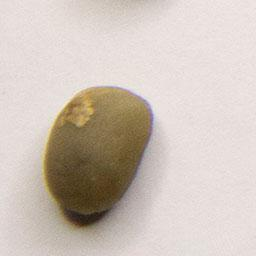peaberry: (40, 81, 158, 223)
